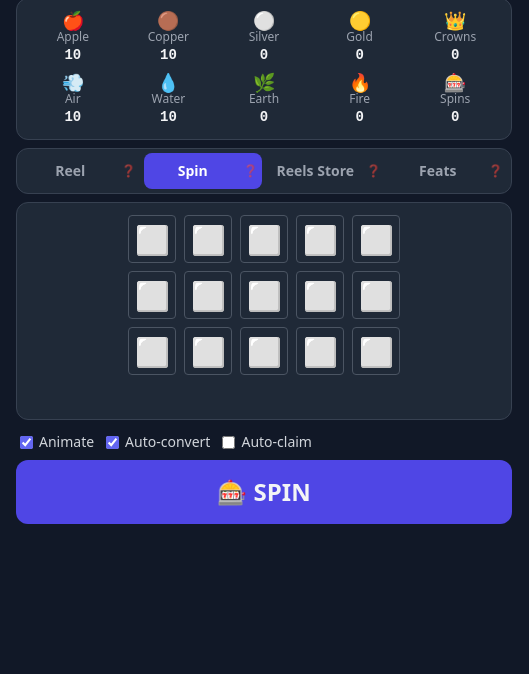
magic action selector › swap hint shown in guide after first cell is selected
What coordinates should you click on to do the following:
click the button with aria-label "Spin the reels"
I would click on:
 (264, 492)
Its box is top-left (16, 460), bottom-right (512, 524).
Wait 5000 ms
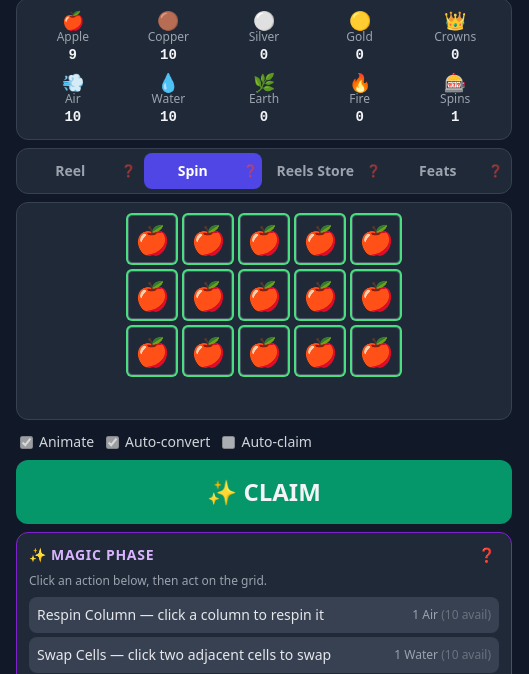
What coordinates should you click on to do the following:
click the button "Swap Cells"
I would click on:
 (264, 655)
Its box is top-left (29, 637), bottom-right (499, 673).
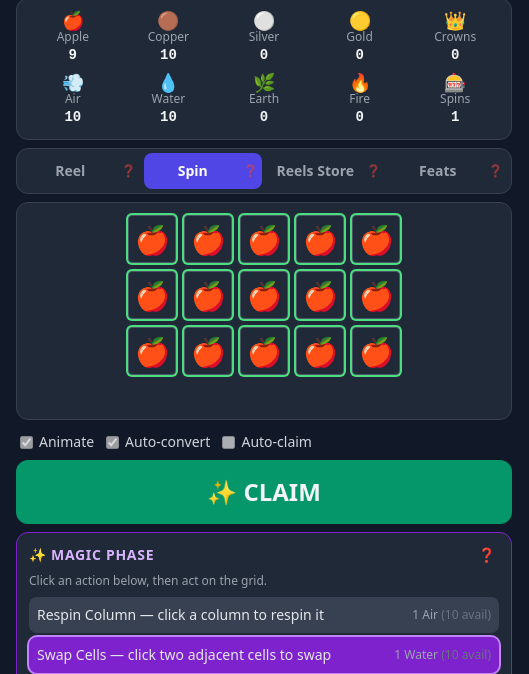
Check: the text "select 2nd" is not shown
What coordinates should you click on to do the following:
click the 1st list item "🍎"
I would click on:
 (152, 239)
Its box is top-left (128, 215), bottom-right (176, 263).
(page scrolled)
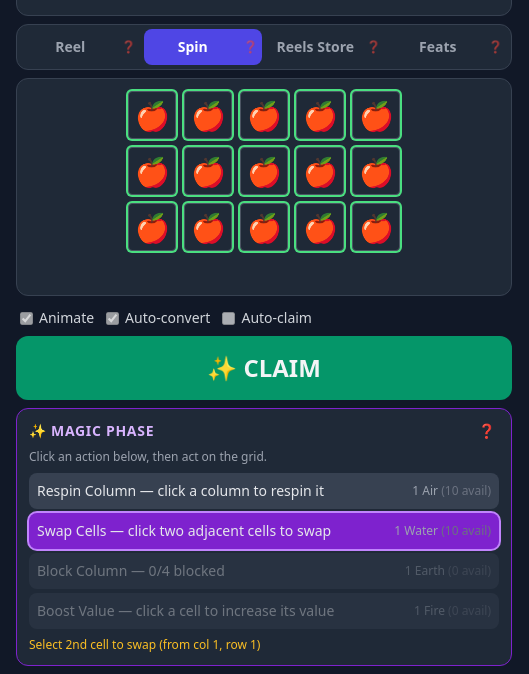
Check: the text "Select 2nd cell to swap (from col 1, row 1)" is shown, box top-left (29, 636), bottom-right (260, 653)
